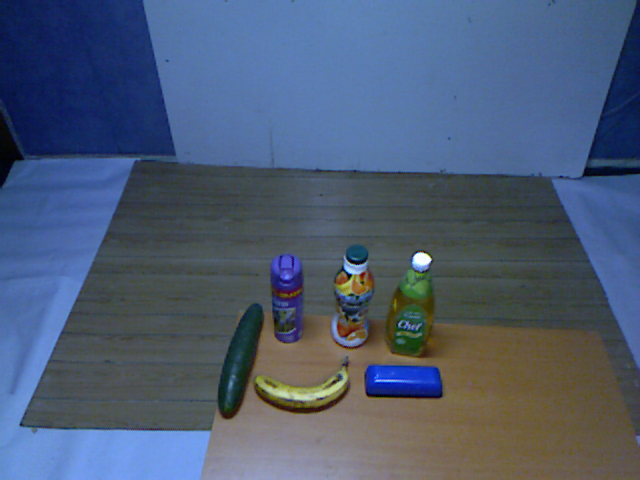aceite: (382, 248, 444, 364)
aerosol: (265, 249, 312, 348)
borrador: (358, 357, 450, 403)
pepino: (213, 300, 266, 425)
platano: (251, 349, 356, 418)
yogurt: (323, 242, 385, 354)
